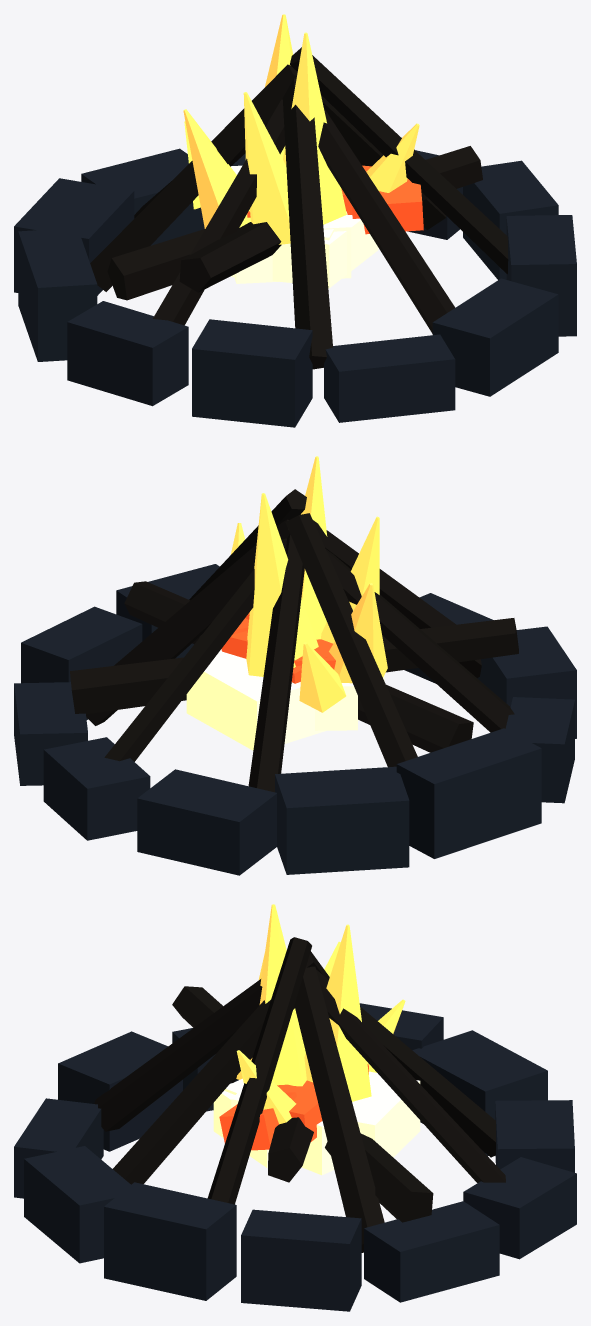
Rendered from bonfire.glb.
3 renders of one model, top to bottom at view 1: azimuth 30°, elevation 25°; view 2: azimuth 150°, elevation 25°; view 3: azimuth 270°, elevation 25°, orthographic.
Parts seen in each view (by area): view 1: bonfire; view 2: bonfire; view 3: bonfire.
Part boxes in pixels (x1,y1,x2,y2): bonfire: [14, 14, 576, 427]; bonfire: [14, 456, 576, 875]; bonfire: [14, 904, 576, 1311].
Bounding box in the file's own units: 2.54 × 1.39 × 2.5.
